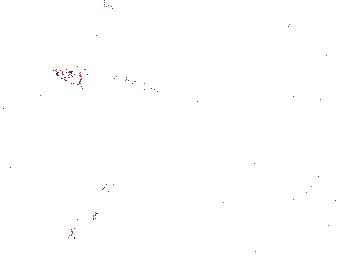X-ray fish: (66, 187, 94, 218)
glassfish: (51, 62, 177, 115), (65, 162, 128, 252)
red belly glassfish: (283, 17, 301, 35)
